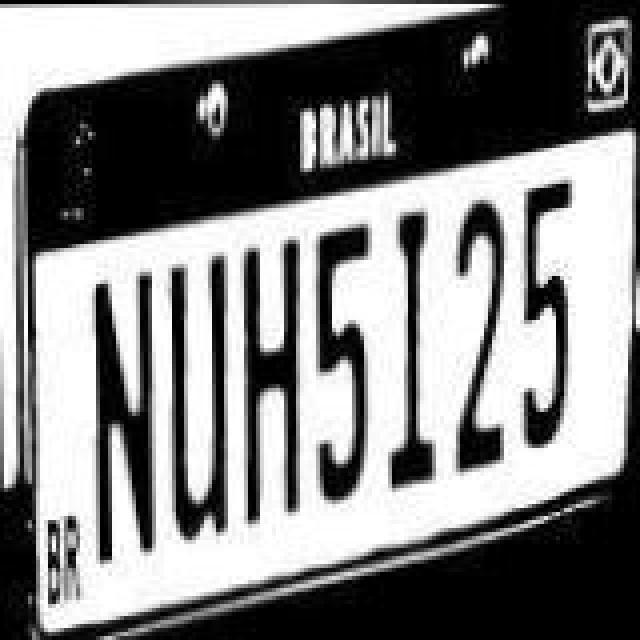2: (442, 174, 518, 458)
5: (308, 200, 380, 484), (518, 162, 586, 430)
H: (234, 218, 310, 506)
I: (378, 184, 446, 472)
N: (88, 254, 164, 562)
U: (160, 234, 236, 534)
